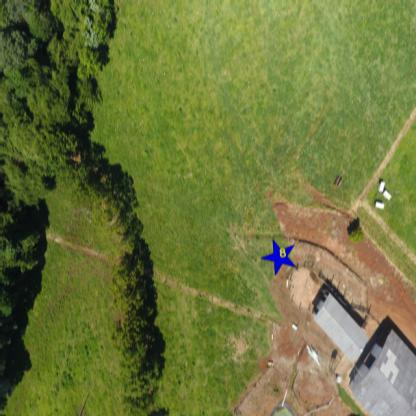8: (279, 245, 287, 261)
star: (259, 236, 298, 278)
